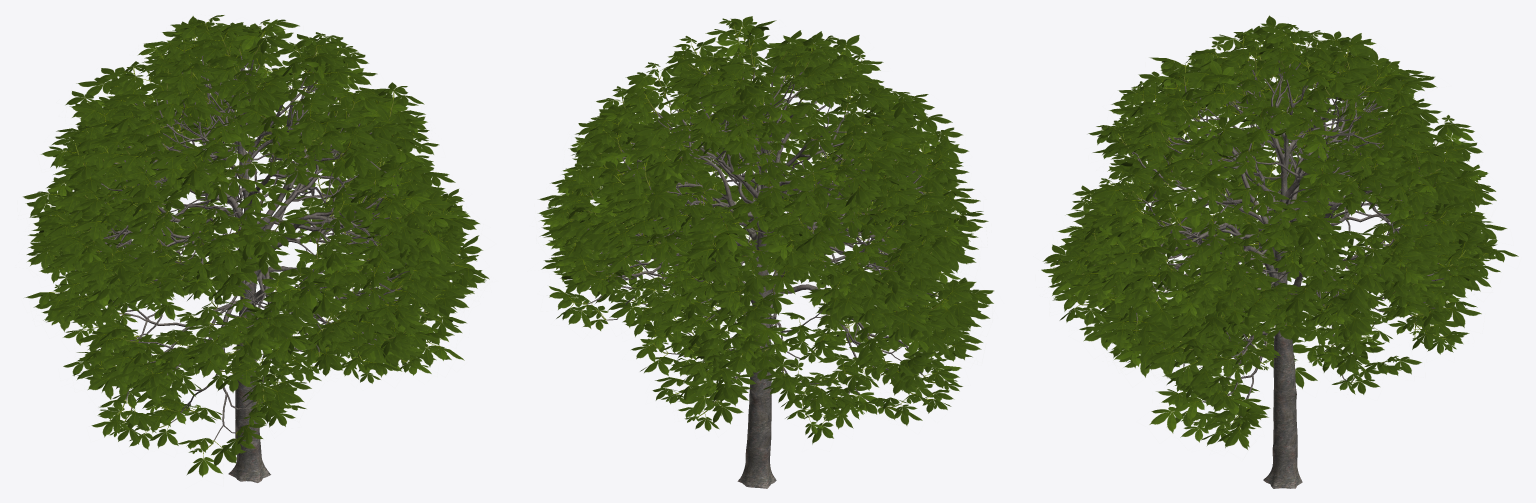
File: marronnier-2.glb
3 views of the same model, side by side, from view 1: azimuth 30°, elevation 25°; view 2: azimuth 150°, elevation 25°; view 3: azimuth 270°, elevation 25° (orthographic).
Visible parts, largest first — view 1: Aesculus_X_carnea_HD; view 2: Aesculus_X_carnea_HD; view 3: Aesculus_X_carnea_HD.
Part boxes in pixels (bbox=[...]): Aesculus_X_carnea_HD: bbox=[23, 15, 489, 482]; Aesculus_X_carnea_HD: bbox=[538, 16, 993, 488]; Aesculus_X_carnea_HD: bbox=[1041, 15, 1518, 488].
Bounding box in the file's own units: 6.2 × 6.26 × 6.26.
Materials: 7 (7 with a texture image).
